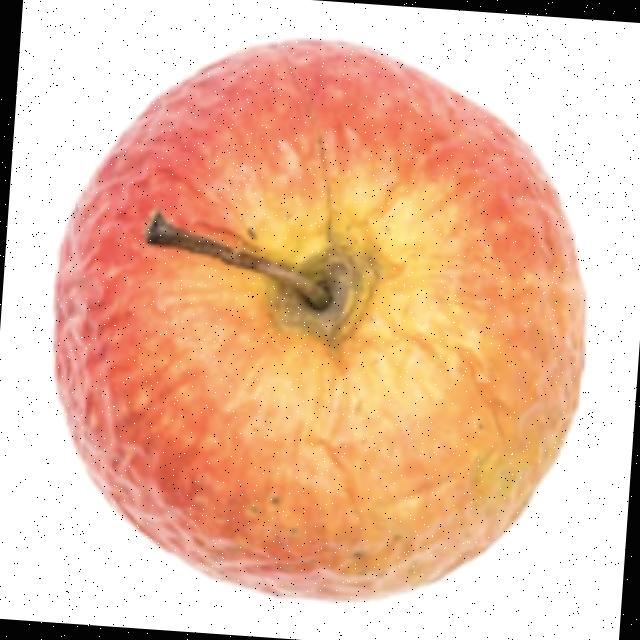overripe: (25, 16, 608, 621)
